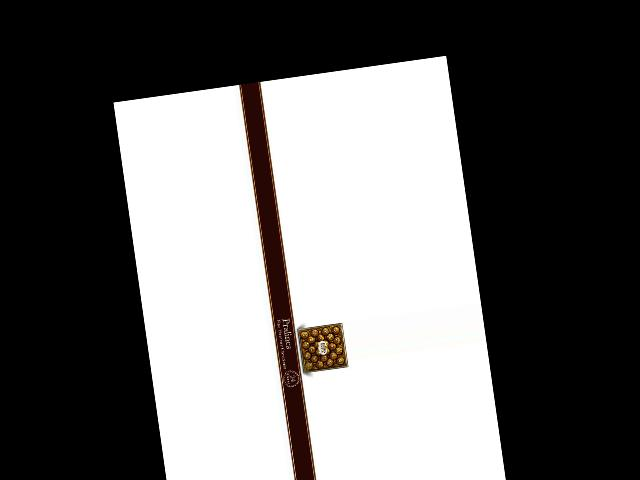chocolate: (294, 320, 351, 376)
